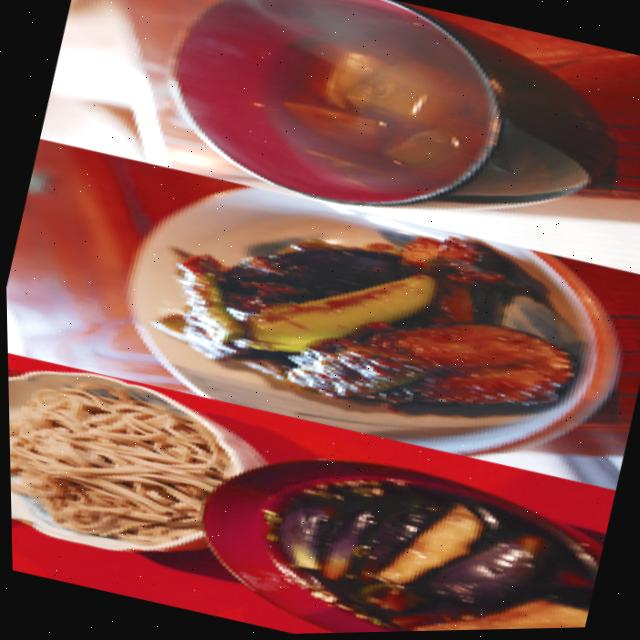鸡蛋料理: (2, 128, 640, 640)
